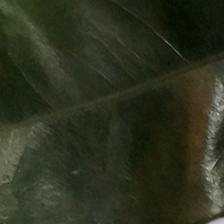healthy: (5, 14, 224, 222)
